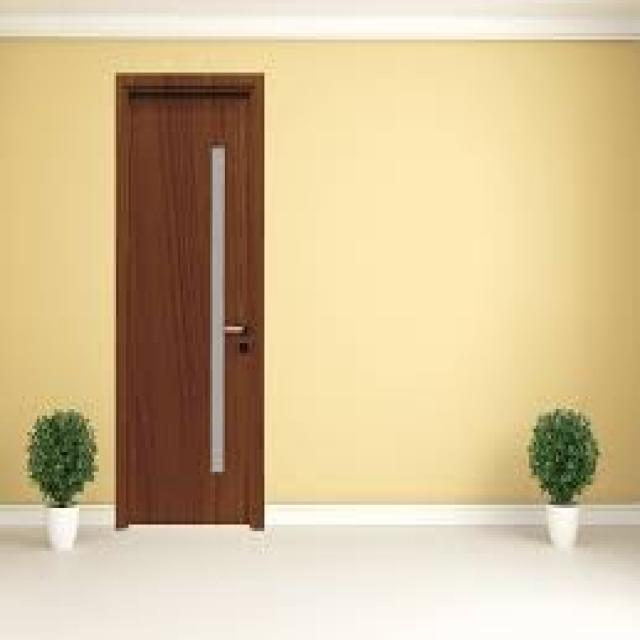door: (115, 71, 266, 529)
